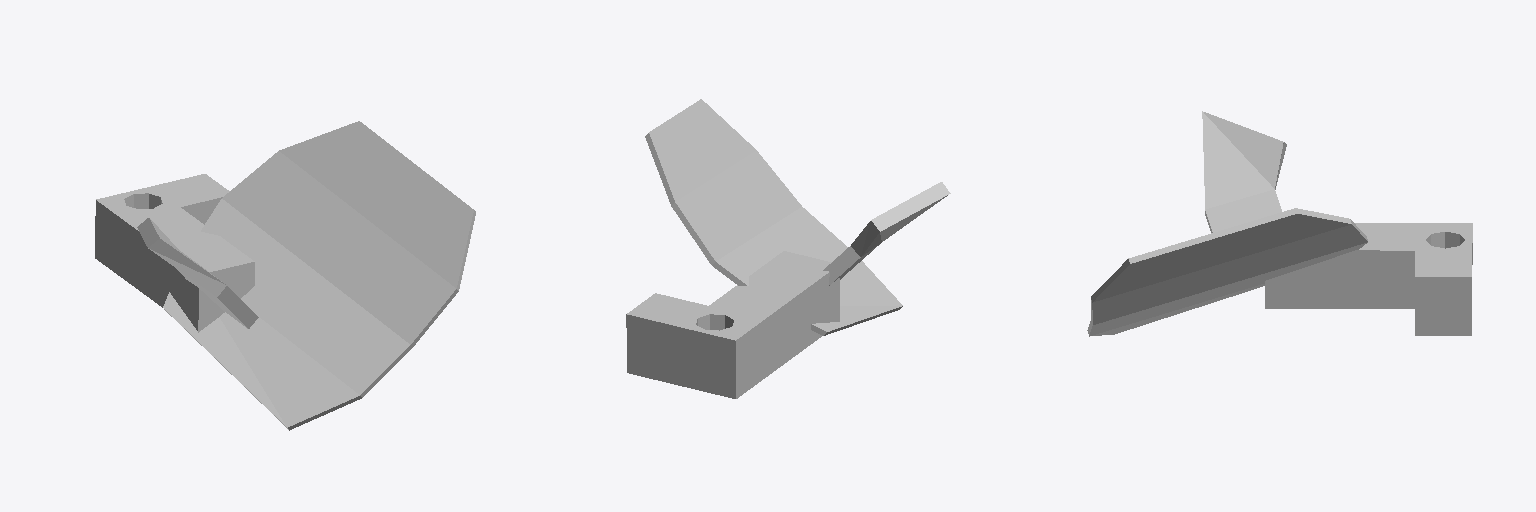
The model's file is L_WAA.obj.
3 renders of one model, left to right at view 1: azimuth 30°, elevation 25°; view 2: azimuth 150°, elevation 25°; view 3: azimuth 270°, elevation 25°, orthographic.
Visible parts, largest first — view 1: L_WAA.2_ShapeIndexedFaceS.096, L_WAA.1_ShapeIndexedFaceS.084, L_WAA.12_ShapeIndexedFaceS.097; view 2: L_WAA.2_ShapeIndexedFaceS.096, L_WAA.1_ShapeIndexedFaceS.084, L_WAA.12_ShapeIndexedFaceS.097; view 3: L_WAA.2_ShapeIndexedFaceS.096, L_WAA.1_ShapeIndexedFaceS.084, L_WAA.12_ShapeIndexedFaceS.097.
Boxes of the visible parts, <box> form: L_WAA.2_ShapeIndexedFaceS.096: <box>163,121,475,430</box>; L_WAA.1_ShapeIndexedFaceS.084: <box>95,174,254,332</box>; L_WAA.12_ShapeIndexedFaceS.097: <box>137,218,258,328</box>; L_WAA.2_ShapeIndexedFaceS.096: <box>645,99,902,335</box>; L_WAA.1_ShapeIndexedFaceS.084: <box>626,251,839,398</box>; L_WAA.12_ShapeIndexedFaceS.097: <box>823,182,950,285</box>; L_WAA.2_ShapeIndexedFaceS.096: <box>1087,208,1367,336</box>; L_WAA.1_ShapeIndexedFaceS.084: <box>1265,223,1472,335</box>; L_WAA.12_ShapeIndexedFaceS.097: <box>1202,111,1286,232</box>.
Bounding box in the file's own units: 3.64 × 2.45 × 4.18.